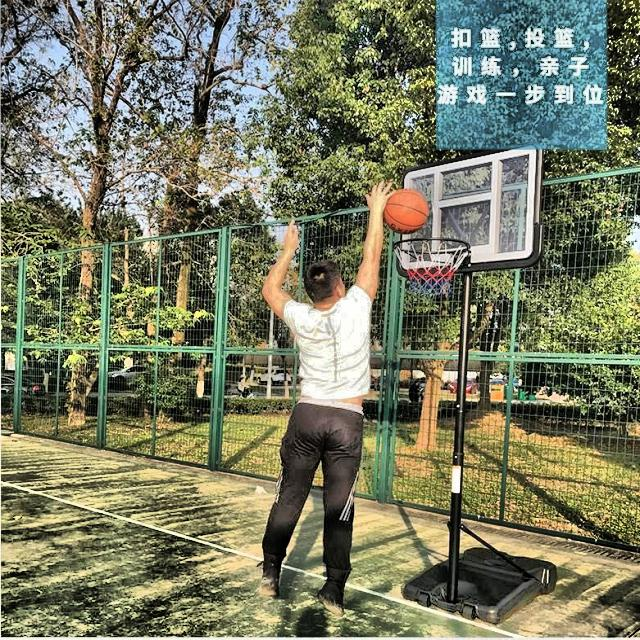board: (385, 189, 428, 234)
rim: (393, 237, 472, 298)
